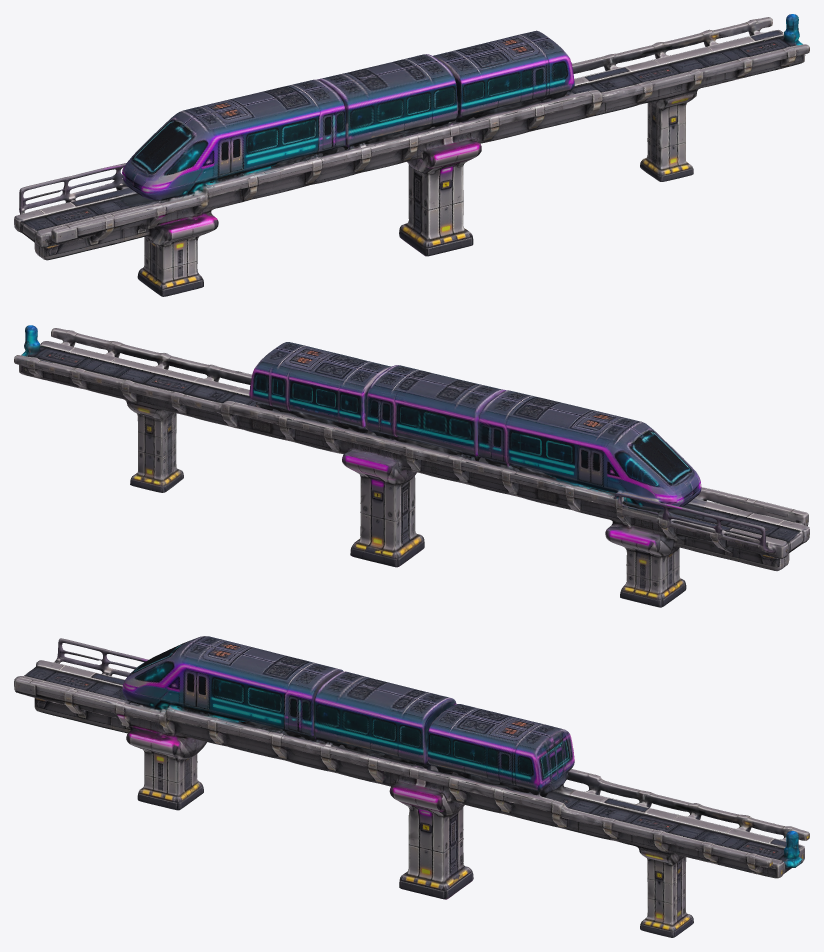
The model's file is Monotrilho_futurista.glb.
The picture shows the model from 3 angles, top to bottom: view 1: azimuth 30°, elevation 25°; view 2: azimuth 150°, elevation 25°; view 3: azimuth 330°, elevation 25°; orthographic projection.
Size of the model in its own units: 1.9 by 0.4319 by 0.1804.
Materials: 1 (1 with a texture image).
